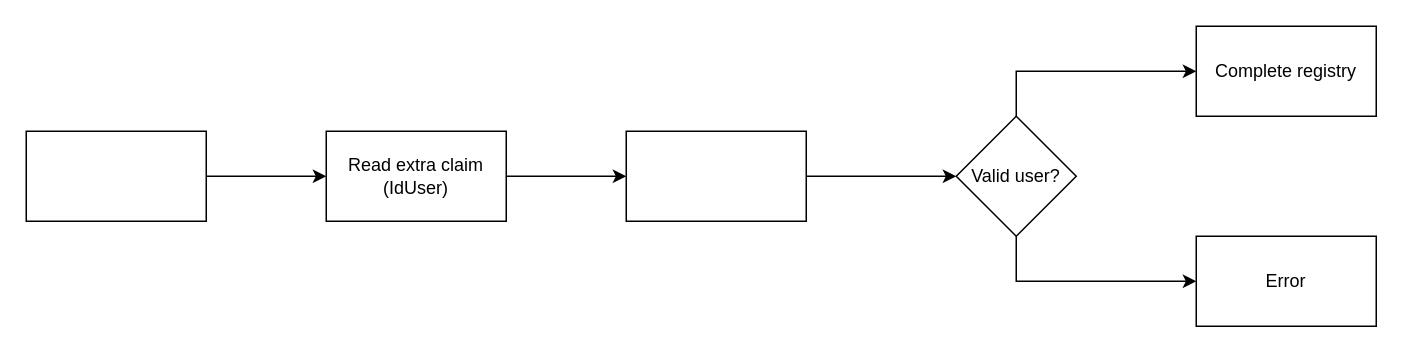
Image size: 1403x353. Some labels were removed from this diagram. The box of each missing label's shape, as (x1, y1, x2, y2) in pixels:
External endpoint IdUser validation: (625, 130, 806, 221)
New user registry: (25, 130, 206, 221)
